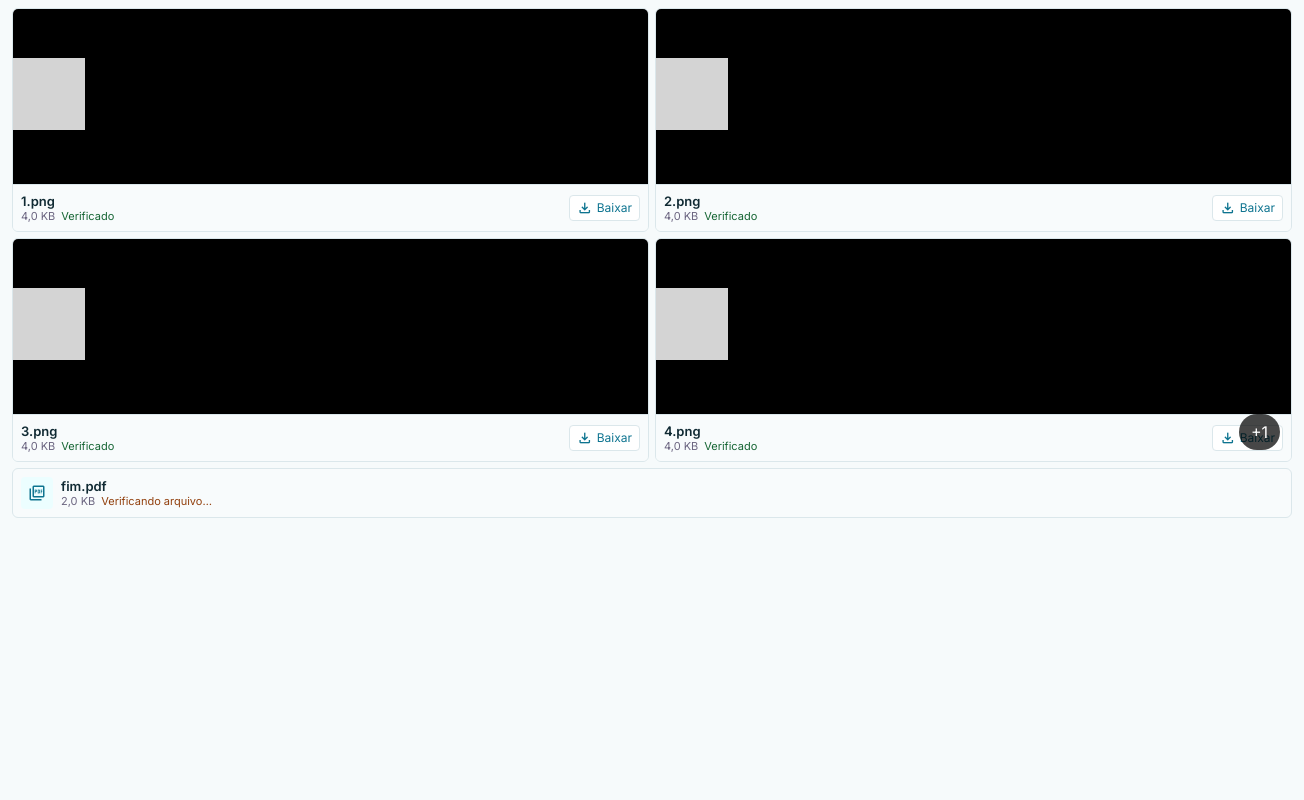
Test: message attachments — image preview and lightbox › groups contiguous images, keeps mixed document order and expands the +N remainder
The width and height of the screenshot is (1304, 800).
Click the button named "Mostrar mais 1 imagem": (1259, 432) [1239,414,1280,450]
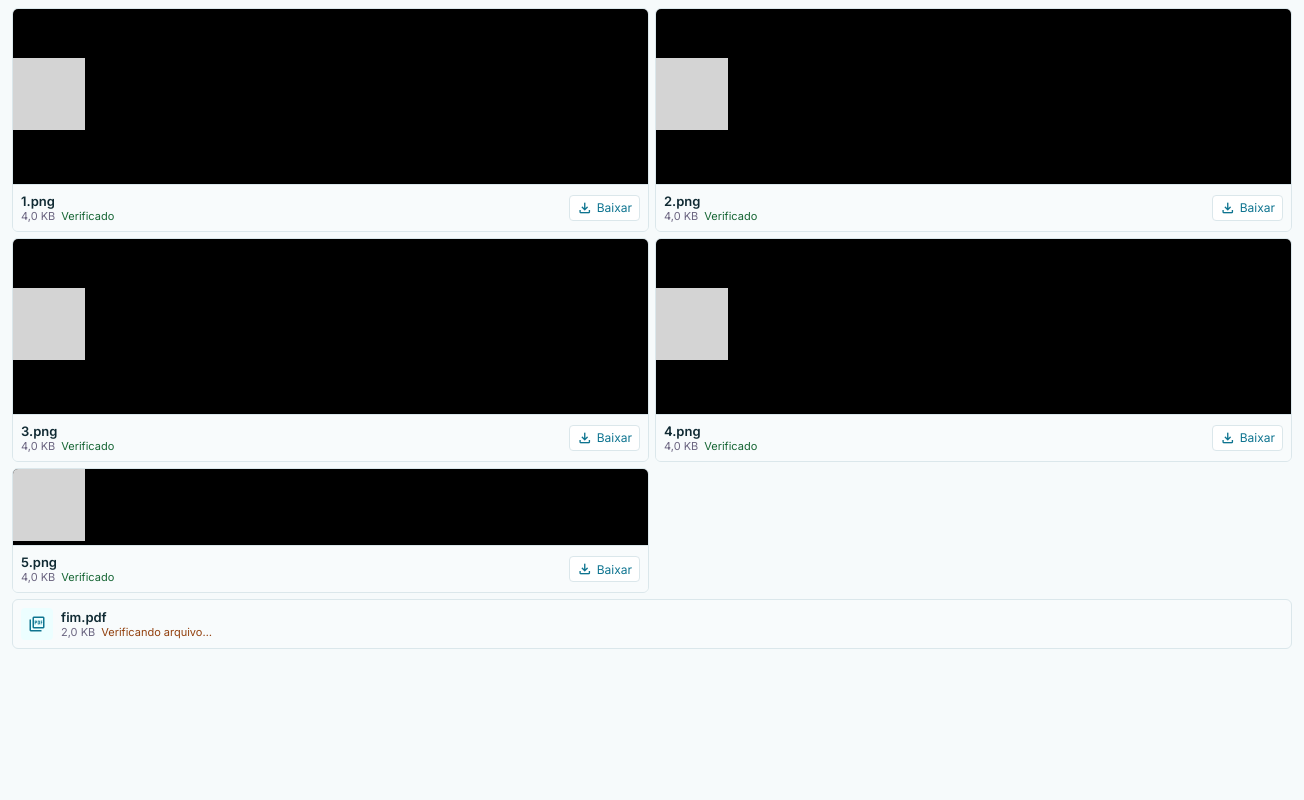
Check: the list item with test id "chat-message-attachment-img-5" is shown, box [12,468,649,593]
